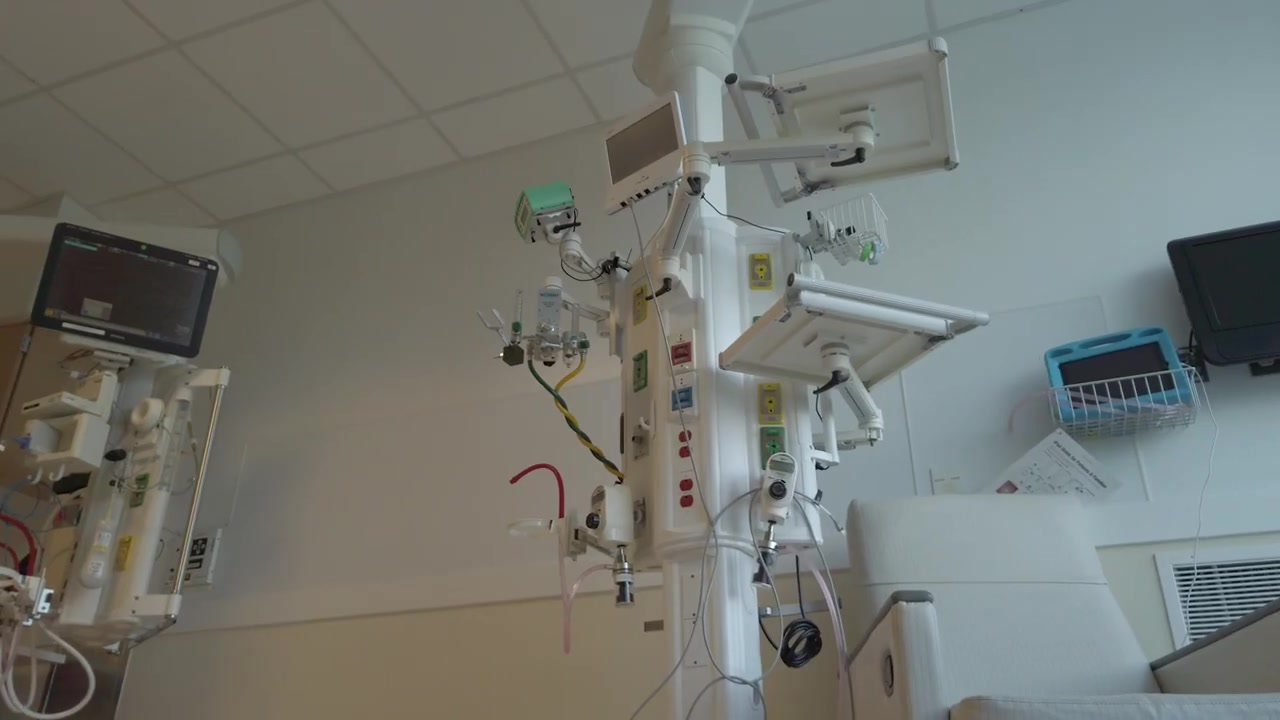TV: (1163, 218, 1280, 369)
bedside_monitor: (29, 223, 221, 359), (595, 88, 696, 202)
sofa: (837, 494, 1280, 720)
